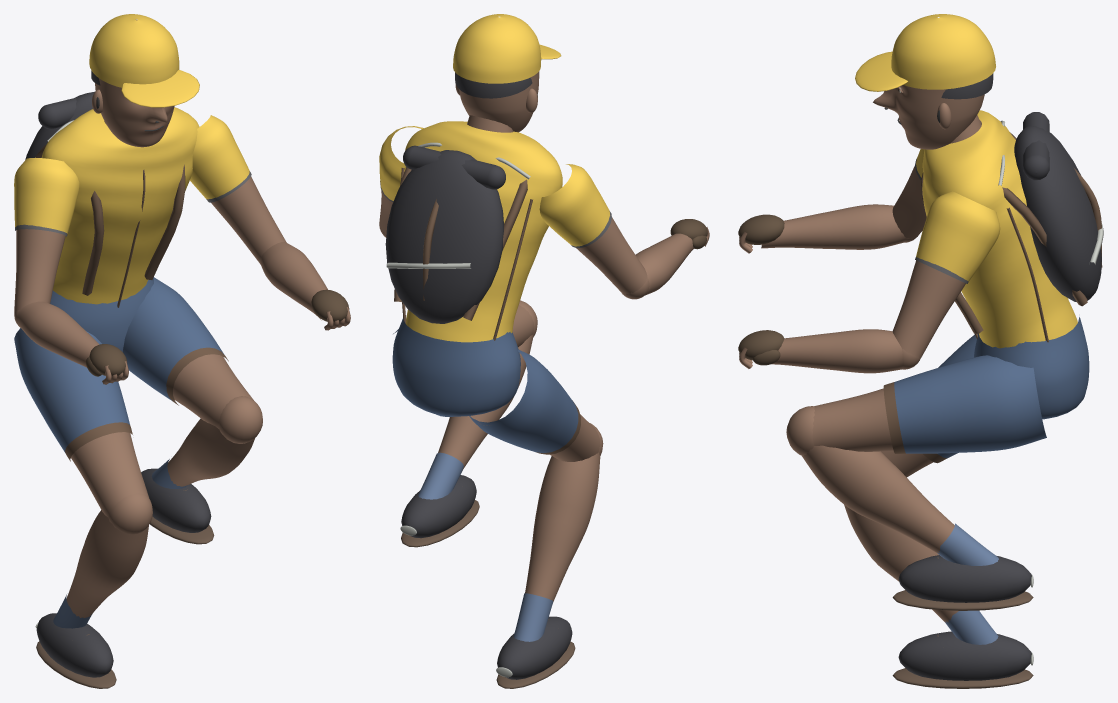
File: courier-char2.glb
3 views of the same model, side by side, from view 1: azimuth 30°, elevation 25°; view 2: azimuth 150°, elevation 25°; view 3: azimuth 270°, elevation 25° (orthographic). The views are drawn at different scales.
Visible parts, largest first — view 1: rider-torso, thigh-left, rider-head, thigh-right, upper-arm-left, upper-arm-right, shin-left, foot-left, shin-right, foot-right, forearm-left, anatomical-bicycle-courier (+5 smaller); view 2: rider-torso, anatomical-bicycle-courier, rider-head, shin-left, thigh-left, upper-arm-left, foot-left, shin-right, foot-right, forearm-left, upper-arm-right, hand-left (+1 smaller); view 3: rider-torso, thigh-right, rider-head, upper-arm-right, shin-right, foot-left, foot-right, anatomical-bicycle-courier, forearm-left, forearm-right, shin-left, upper-arm-left (+4 smaller).
Part boxes in pixels (left/top/right/bottom): rider-torso: left=25, top=91, right=199, bottom=307; thigh-left: left=14, top=328, right=148, bottom=516; rider-head: left=89, top=14, right=199, bottom=147; thigh-right: left=123, top=277, right=253, bottom=428; upper-arm-left: left=14, top=157, right=79, bottom=311; upper-arm-right: left=190, top=115, right=286, bottom=263; shin-left: left=53, top=510, right=148, bottom=628; foot-left: left=35, top=613, right=116, bottom=688; shin-right: left=151, top=418, right=254, bottom=488; foot-right: left=141, top=468, right=214, bottom=544; forearm-left: left=17, top=301, right=101, bottom=375; anatomical-bicycle-courier: left=50, top=278, right=153, bottom=351; rider-torso: left=385, top=115, right=562, bottom=342; anatomical-bicycle-courier: left=392, top=318, right=520, bottom=416; rider-head: left=453, top=14, right=561, bottom=132; shin-left: left=513, top=452, right=600, bottom=641; thigh-left: left=469, top=350, right=600, bottom=461; upper-arm-left: left=539, top=164, right=647, bottom=294; foot-left: left=496, top=616, right=575, bottom=688; shin-right: left=418, top=334, right=533, bottom=499; foot-right: left=400, top=475, right=479, bottom=547; forearm-left: left=635, top=233, right=693, bottom=295; upper-arm-right: left=379, top=126, right=423, bottom=234; hand-left: left=670, top=219, right=709, bottom=249; rider-torso: left=921, top=110, right=1103, bottom=348; thigh-right: left=812, top=355, right=1046, bottom=453; rider-head: left=855, top=14, right=995, bottom=149; upper-arm-right: left=892, top=191, right=1000, bottom=358; shin-right: left=802, top=445, right=998, bottom=565; foot-left: left=892, top=631, right=1033, bottom=688; foot-right: left=892, top=555, right=1033, bottom=610; anatomical-bicycle-courier: left=974, top=317, right=1089, bottom=419; forearm-left: left=761, top=204, right=905, bottom=249; forearm-right: left=771, top=329, right=902, bottom=373; shin-left: left=844, top=504, right=998, bottom=644; upper-arm-left: left=892, top=149, right=926, bottom=238.
Size of the model in its own units: 0.6252 by 1.39 by 0.6676.
